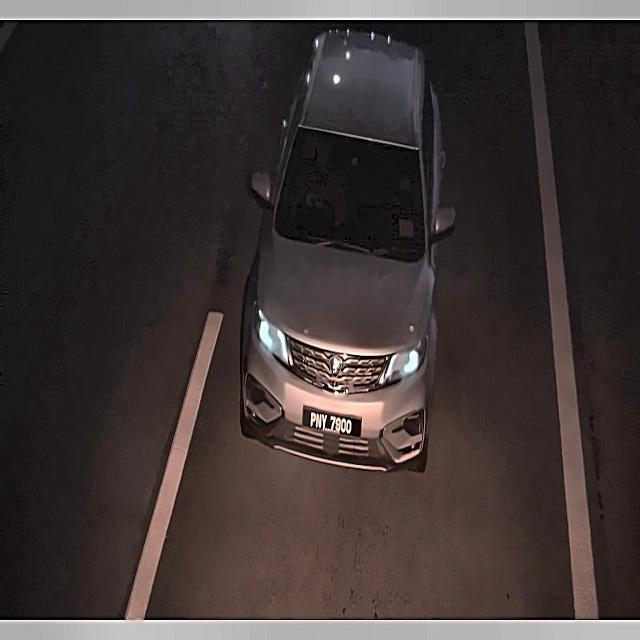car: (298, 400, 368, 446)
